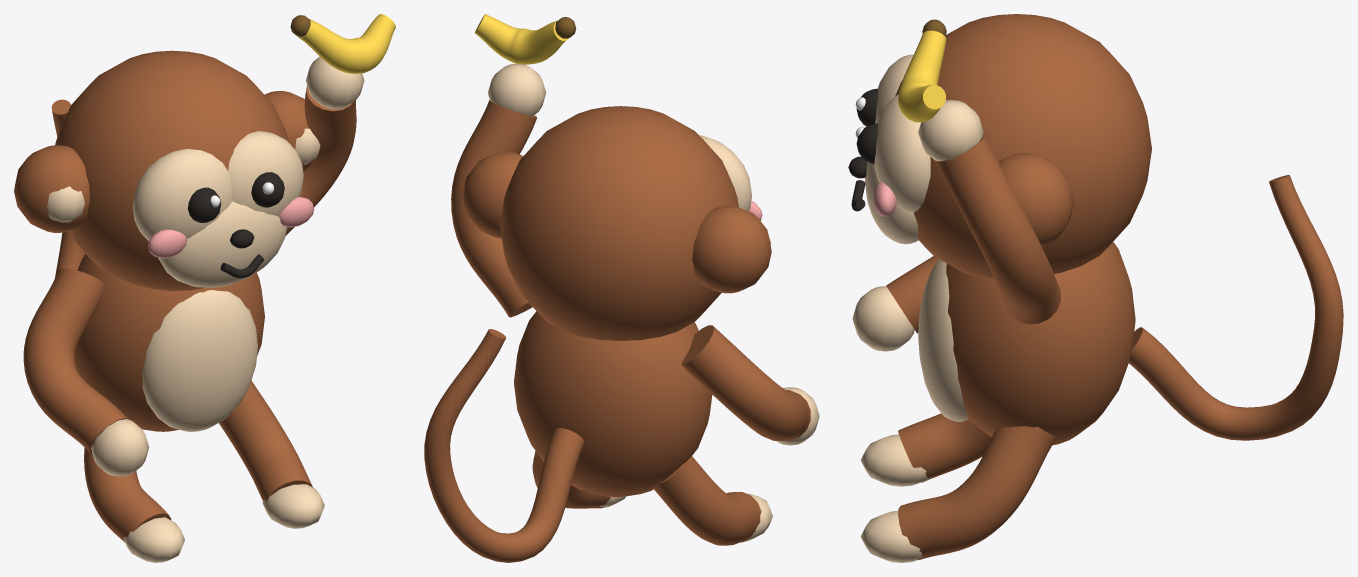
Rendered from monkey.glb.
The picture shows the model from 3 angles, left to right: view 1: azimuth 30°, elevation 25°; view 2: azimuth 150°, elevation 25°; view 3: azimuth 270°, elevation 25°; orthographic projection. The views are drawn at different scales.
Visible parts, largest first — view 1: skull, belly, body, armL, facepatch-1, muzzle, leg1, ear-1, facepatch1, armRmesh, leg-1, banana (+12 smaller); view 2: skull, body, tailmesh, armL, armRmesh, ear-1, leg-1, ear1, banana, handR, facepatch-1, leg1 (+1 smaller); view 3: skull, body, tailmesh, armRmesh, leg1, belly, facepatch1, ear1, leg-1, banana, handL, handR (+7 smaller).
Boxes of the visible parts, bbox=[...] form: skull: bbox=[55, 50, 289, 291]; belly: bbox=[142, 290, 257, 431]; body: bbox=[74, 254, 264, 431]; armL: bbox=[23, 268, 127, 453]; facepatch-1: bbox=[132, 149, 232, 241]; muzzle: bbox=[158, 201, 287, 287]; leg1: bbox=[219, 380, 312, 501]; ear-1: bbox=[14, 145, 89, 232]; facepatch1: bbox=[228, 131, 303, 216]; armRmesh: bbox=[286, 85, 356, 235]; leg-1: bbox=[84, 419, 171, 542]; banana: bbox=[298, 14, 395, 73]; skull: bbox=[500, 106, 738, 340]; body: bbox=[514, 311, 712, 497]; tailmesh: bbox=[424, 329, 583, 562]; armL: bbox=[681, 325, 810, 440]; armRmesh: bbox=[451, 100, 536, 317]; ear-1: bbox=[692, 205, 771, 293]; leg-1: bbox=[654, 456, 761, 545]; ear1: bbox=[462, 151, 523, 238]; banana: bbox=[475, 14, 568, 64]; handR: bbox=[488, 63, 546, 115]; facepatch-1: bbox=[699, 135, 751, 211]; leg1: bbox=[532, 451, 610, 508]; skull: bbox=[895, 14, 1151, 278]; body: bbox=[946, 242, 1135, 445]; tailmesh: bbox=[1129, 175, 1343, 440]; armRmesh: bbox=[934, 133, 1060, 324]; leg1: bbox=[898, 426, 1056, 559]; belly: bbox=[918, 259, 968, 421]; facepatch1: bbox=[874, 94, 930, 211]; ear1: bbox=[998, 153, 1073, 247]; leg-1: bbox=[898, 413, 991, 482]; banana: bbox=[897, 30, 946, 122]; handL: bbox=[852, 286, 914, 351]; handR: bbox=[918, 100, 983, 161].
Size of the model in its own units: 1.07 by 1.48 by 1.21.
